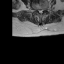CCS_stenosis: (40, 8, 42, 15)
LFS_stenosis: (43, 7, 45, 11)
LLS_stenosis: (41, 8, 43, 14)
RFS_severe_stenosis: (36, 7, 38, 12)
RLS_stenosis: (38, 8, 40, 13)
